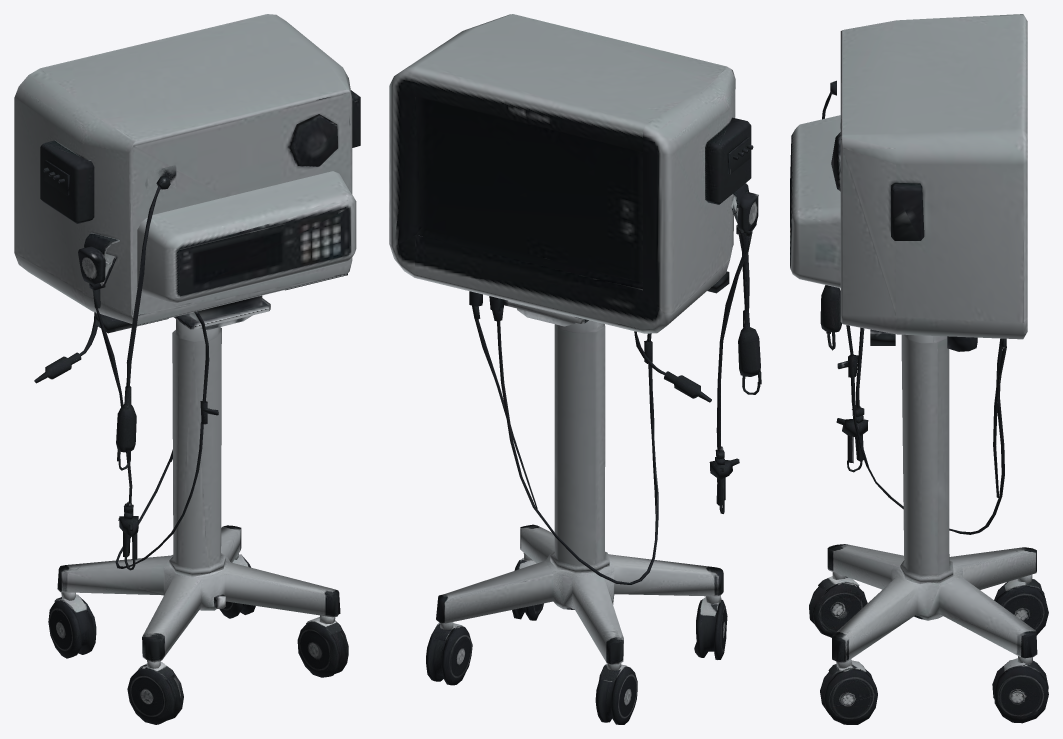
File: office-vitals-monitor.glb
3 views of the same model, side by side, from view 1: azimuth 30°, elevation 25°; view 2: azimuth 150°, elevation 25°; view 3: azimuth 270°, elevation 25° (orthographic). The views are drawn at different scales.
Parts seen in each view (by area): view 1: vitals-monitor; view 2: vitals-monitor; view 3: vitals-monitor.
Part boxes in pixels (box(x1,y1,x2,y2)): vitals-monitor: box(14, 14, 360, 724); vitals-monitor: box(389, 14, 761, 724); vitals-monitor: box(790, 14, 1048, 724).
Size of the model in its own units: 0.8496 by 1.6 by 0.6192.
1 material, 1 textured.
